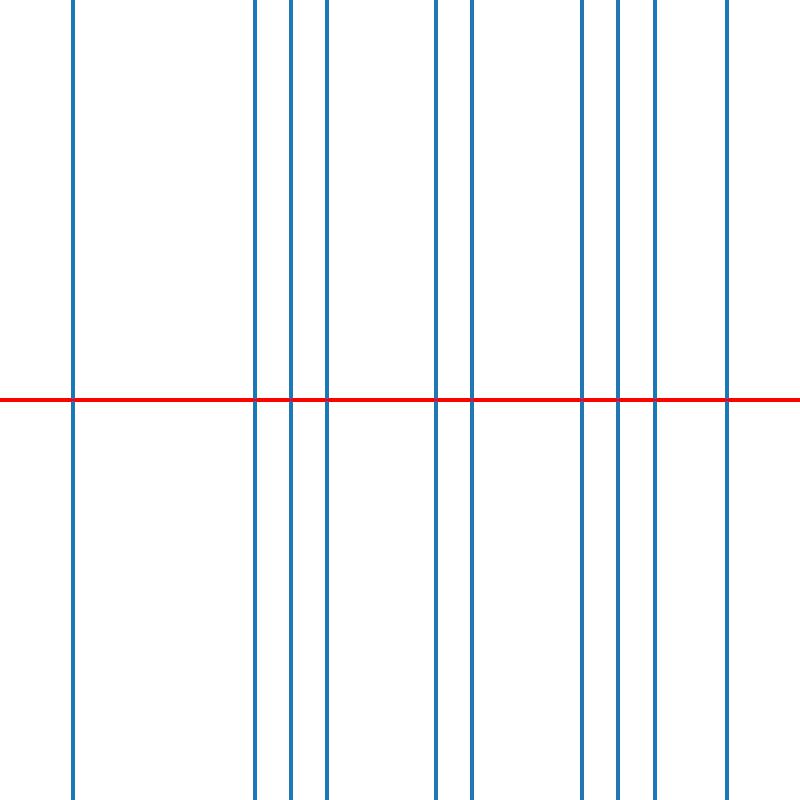root: (250, 396, 258, 404), (650, 396, 658, 404), (432, 396, 440, 404), (69, 396, 76, 404), (614, 396, 621, 404), (578, 396, 585, 404), (723, 396, 730, 404), (323, 396, 330, 404), (287, 396, 294, 404), (469, 396, 476, 404)
